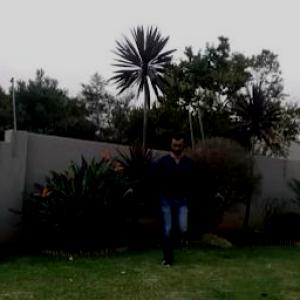land: (111, 125, 224, 268)
